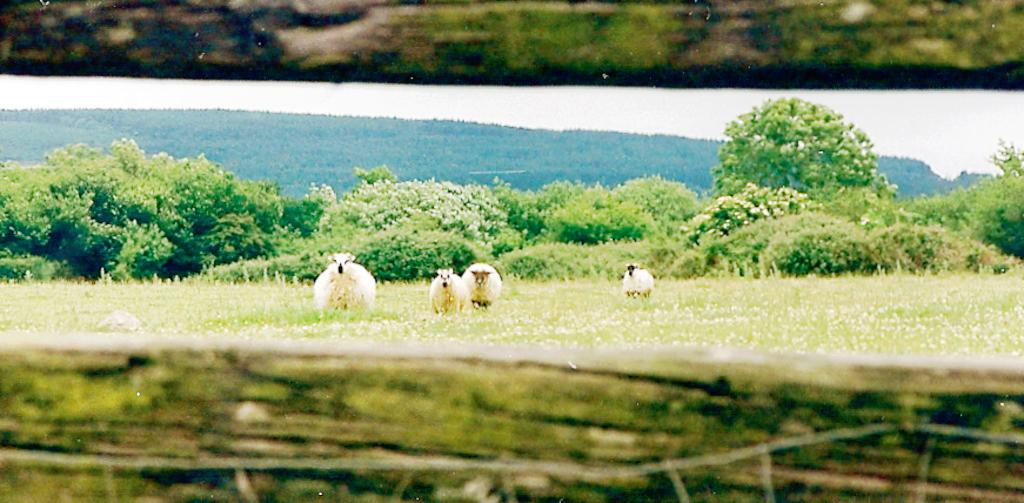Sheep: (310, 252, 376, 310), (426, 266, 472, 316), (463, 264, 502, 310), (622, 262, 657, 298)
